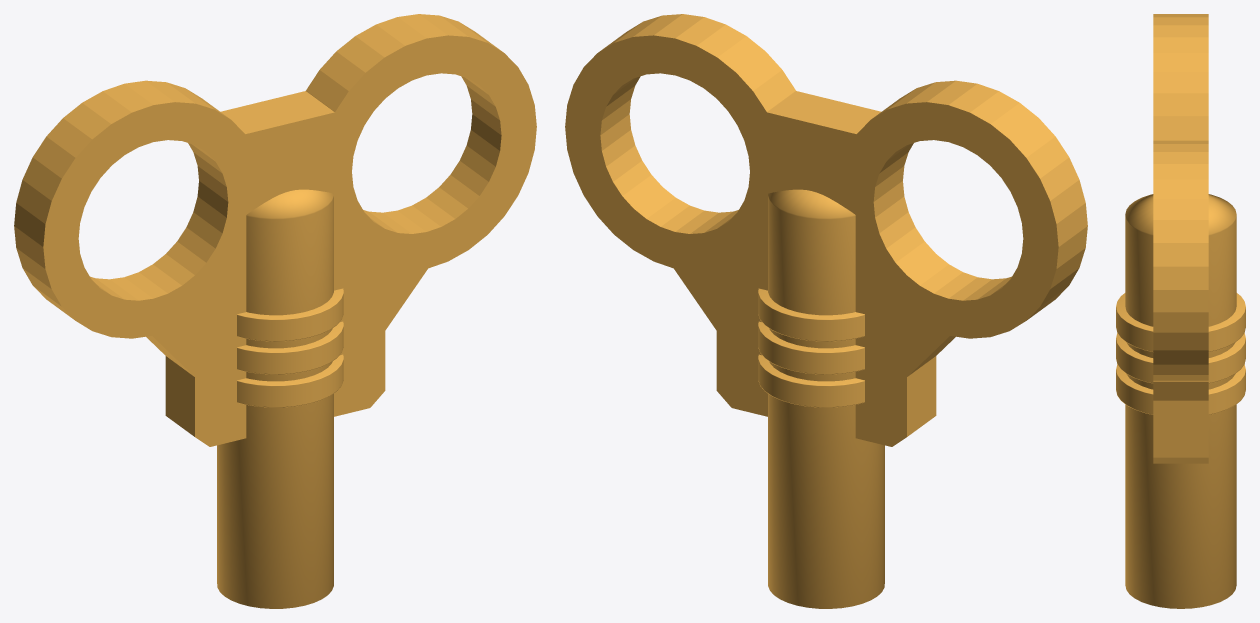
File: wind_up_key.gltf
3 renders of one model, left to right at view 1: azimuth 30°, elevation 25°; view 2: azimuth 150°, elevation 25°; view 3: azimuth 270°, elevation 25°, orthographic. The views are drawn at different scales.
Visible parts, largest first — view 1: Cylinder.004, Cylinder, Cylinder.005; view 2: Cylinder.004, Cylinder, Cylinder.005; view 3: Cylinder, Cylinder.004, Cylinder.005.
Boxes of the visible parts, <box> form: Cylinder.004: <box>14,14,536,446</box>; Cylinder: <box>217,189,333,608</box>; Cylinder.005: <box>237,288,343,407</box>; Cylinder.004: <box>565,14,1087,446</box>; Cylinder: <box>768,189,884,608</box>; Cylinder.005: <box>758,288,864,407</box>; Cylinder: <box>1125,194,1236,608</box>; Cylinder.004: <box>1153,14,1208,463</box>; Cylinder.005: <box>1116,293,1245,414</box>.
Bounding box in the file's own units: 2.1 × 2.13 × 0.504.
